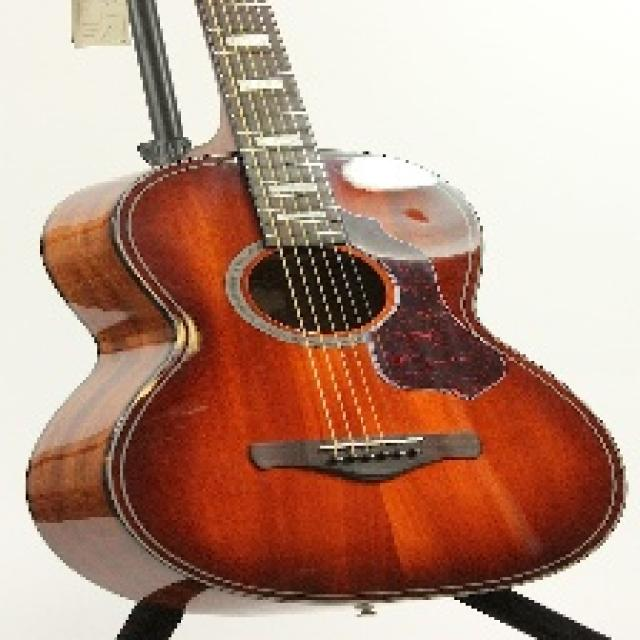guitar: (28, 0, 623, 606)
